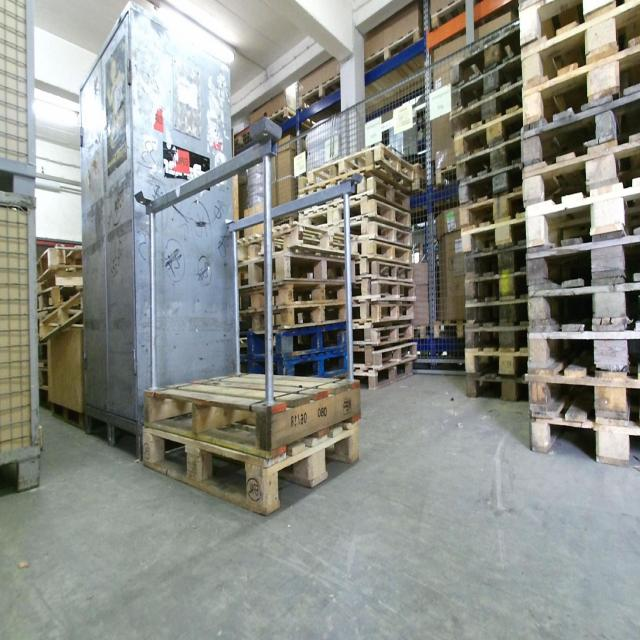pallet: (139, 415, 364, 517), (519, 96, 636, 171), (522, 45, 633, 123), (525, 7, 630, 80), (525, 139, 630, 201), (526, 190, 637, 246), (526, 324, 635, 376), (531, 420, 637, 471), (530, 286, 636, 336), (526, 238, 636, 286), (531, 376, 635, 420), (238, 249, 347, 287), (236, 103, 320, 151), (451, 28, 521, 82), (311, 141, 414, 176), (39, 282, 83, 360), (359, 25, 422, 75), (450, 85, 513, 131), (241, 222, 347, 249), (32, 238, 81, 293), (244, 305, 349, 330), (294, 69, 347, 114), (244, 330, 353, 351), (459, 109, 518, 147), (460, 193, 524, 227), (456, 144, 522, 176), (267, 351, 353, 375), (463, 375, 530, 405), (462, 300, 524, 332), (238, 287, 347, 305), (462, 168, 519, 201), (466, 249, 524, 281), (430, 0, 483, 35), (457, 225, 522, 249), (353, 338, 418, 362), (361, 365, 414, 394), (356, 201, 409, 230), (359, 176, 409, 206), (468, 351, 524, 375), (356, 265, 415, 287), (350, 305, 418, 324), (356, 222, 414, 244), (465, 279, 525, 300), (355, 244, 415, 265), (350, 321, 415, 340), (462, 332, 524, 351), (356, 287, 418, 305), (413, 163, 435, 201), (428, 165, 454, 191), (438, 319, 465, 343), (415, 325, 438, 344)
stillage: (2, 183, 45, 497), (2, 1, 39, 197)
